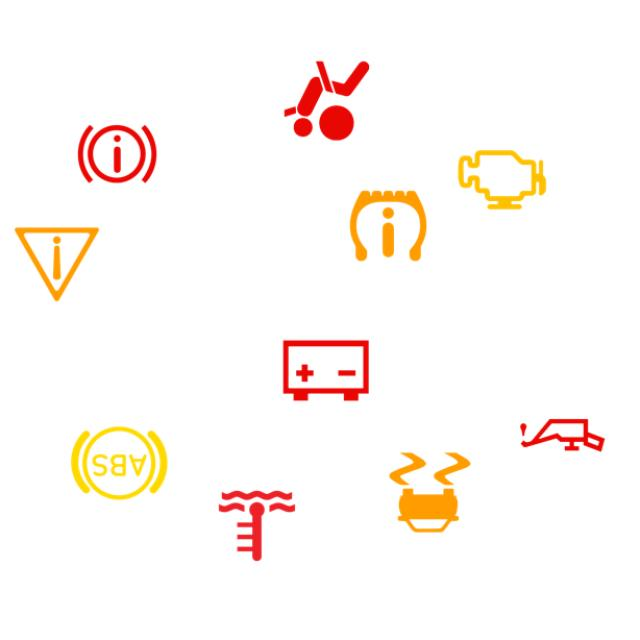Anti Lock Braking System: (67, 411, 172, 516)
Braking System Issue: (65, 101, 170, 206)
Charging System Issue: (273, 318, 378, 423)
Check Engine: (449, 127, 555, 233)
Electronic Stability Problem -ESP-: (377, 440, 483, 545)
Engine Overheating Warning Light: (204, 473, 310, 579)
Low Engine Oil Warning Light: (510, 382, 615, 488)
Low Tire Pressure Warning Light: (336, 173, 441, 278)
Master warning light: (4, 211, 110, 317)
SRS-Airbag: (274, 48, 380, 153)
